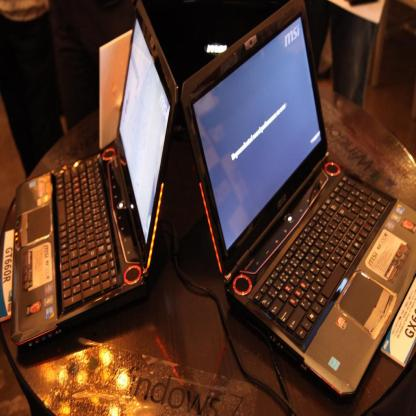board: (178, 0, 416, 397), (10, 0, 178, 347)
